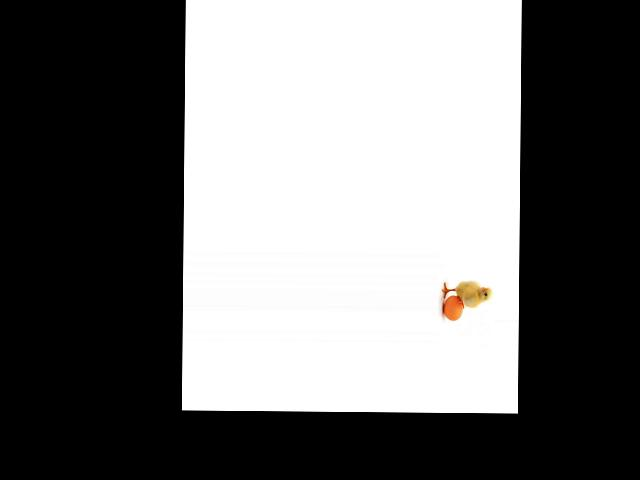egg: (443, 294, 463, 320)
